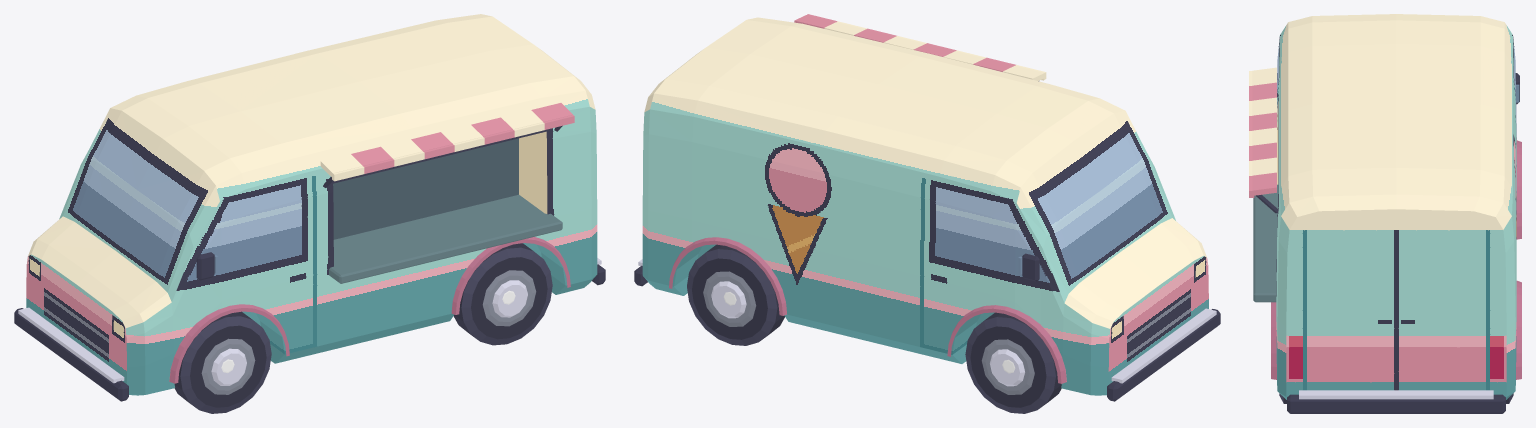
3 renders of one model, left to right at view 1: azimuth 30°, elevation 25°; view 2: azimuth 150°, elevation 25°; view 3: azimuth 270°, elevation 25°, orthographic. The views are drawn at different scales.
Visible parts, largest first — view 1: Body_static, Wheel_RL_tire_hub, Wheel_FL_tire_hub; view 2: Body_static, Wheel_FR_tire_hub, Wheel_RR_tire_hub; view 3: Body_static.
Boxes of the visible parts, x1=… form: Body_static: x1=14, y1=14, x2=605, y2=401; Wheel_RL_tire_hub: x1=453, y1=243, x2=552, y2=345; Wheel_FL_tire_hub: x1=174, y1=311, x2=271, y2=413; Body_static: x1=634, y1=14, x2=1220, y2=401; Wheel_FR_tire_hub: x1=965, y1=312, x2=1061, y2=413; Wheel_RR_tire_hub: x1=687, y1=244, x2=784, y2=345; Body_static: x1=1249, y1=14, x2=1521, y2=413.
Size of the model in its own units: 85.48 by 41.04 by 40.48.
Materials: 1 (1 with a texture image).
